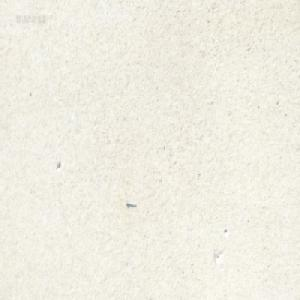Nail: (125, 200, 136, 207)
